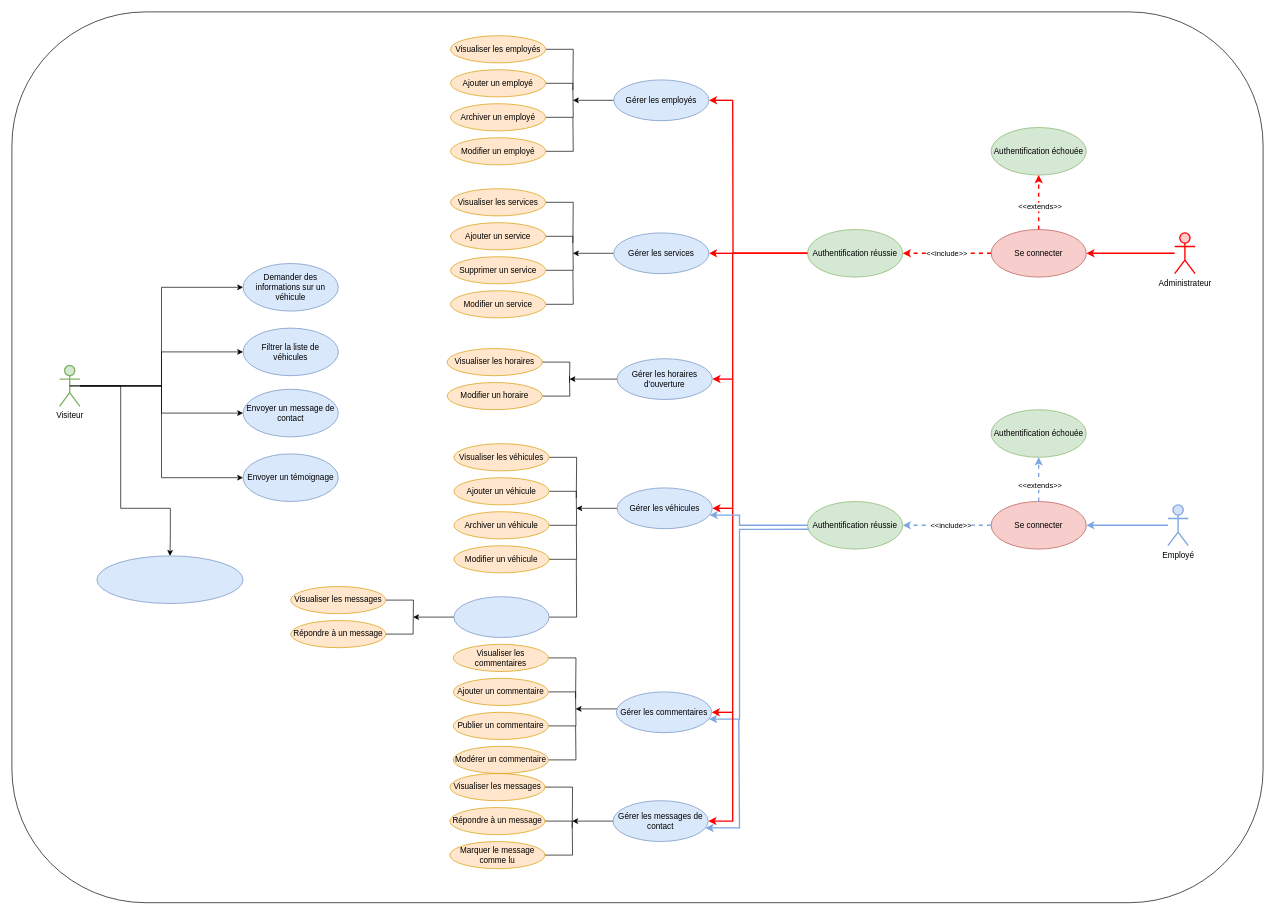
Image size: 1275x915. Some labels were removed from this diagram. Each missing label, with the centre of its shape:
"Consulter le site web (services, véhicules, horaires, galerie d'images)" belongs at pixel 169 579.
"Gérer les messages pour les véhicules" belongs at pixel 501 617.
